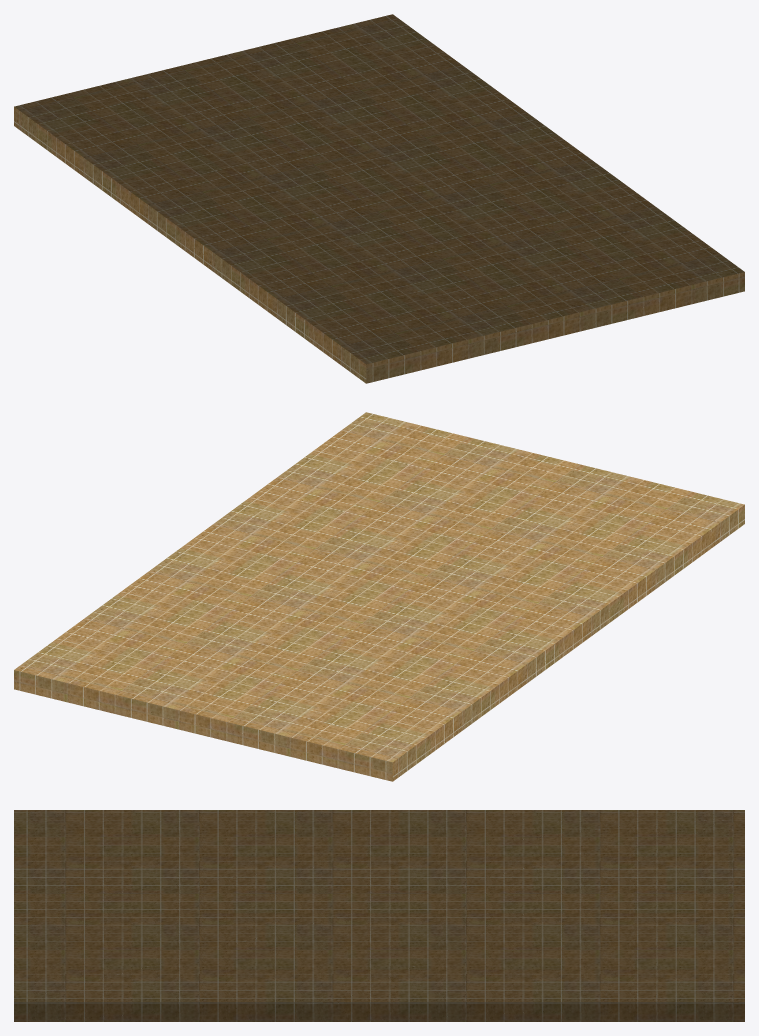
Rendered from Floor_42f483da.obj.
The picture shows the model from 3 angles, top to bottom: view 1: azimuth 30°, elevation 25°; view 2: azimuth 150°, elevation 25°; view 3: azimuth 270°, elevation 25°; orthographic projection. The views are drawn at different scales.
Parts seen in each view (by area): view 1: mesh_73457ef9; view 2: mesh_73457ef9; view 3: mesh_73457ef9.
Part boxes in pixels (left/top/right/bottom): mesh_73457ef9: left=14, top=14, right=744, bottom=383; mesh_73457ef9: left=14, top=412, right=744, bottom=781; mesh_73457ef9: left=14, top=810, right=744, bottom=1021.
Bounding box in the file's own units: 3.4 × 0.1659 × 5.47.
